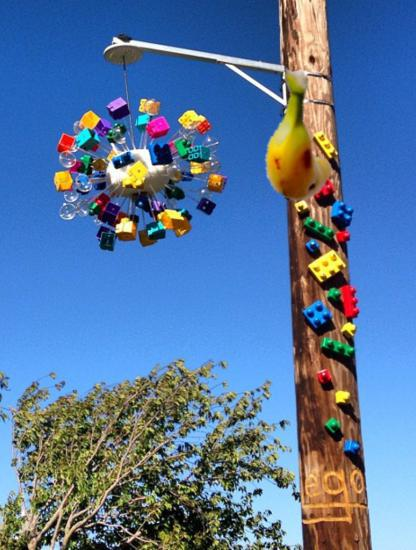Banana: (239, 76, 364, 201)
